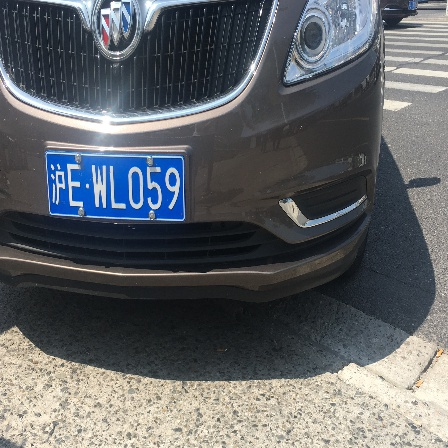plate: (46, 146, 188, 230)
